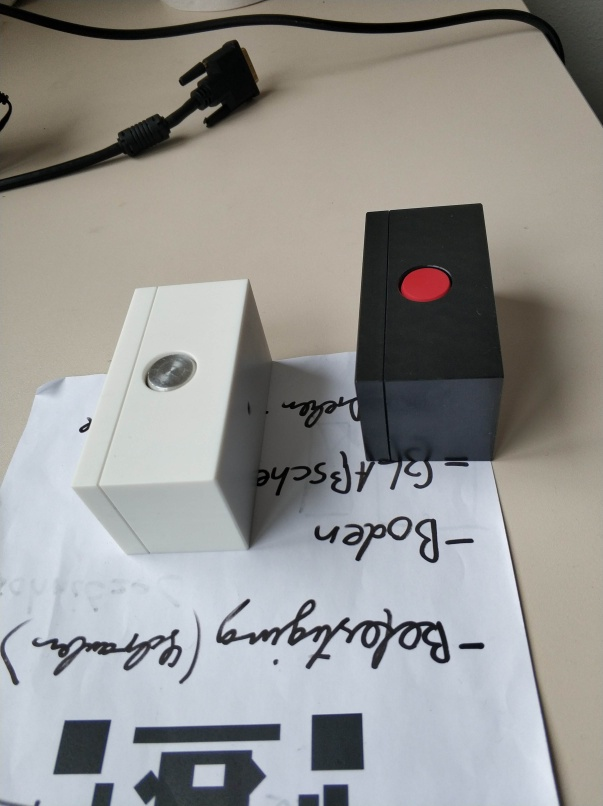black+black+red: (352, 203, 507, 463)
white+white+silver: (68, 277, 274, 558)
